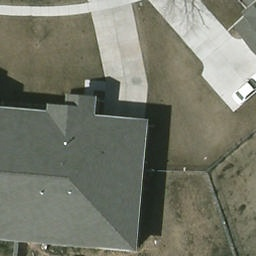car: (226, 72, 256, 110)
